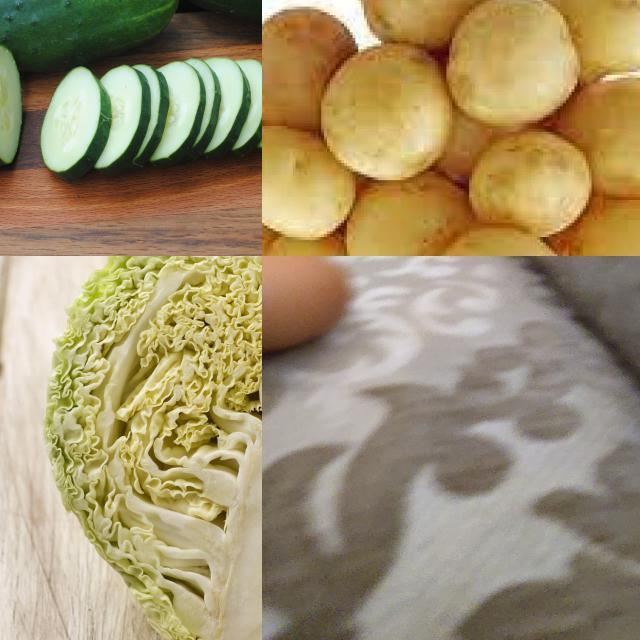cabbage: (30, 257, 263, 640)
cucumber: (1, 1, 179, 79)
egg: (263, 257, 350, 355)
potato: (447, 1, 578, 129), (317, 48, 447, 176), (465, 139, 588, 230), (263, 11, 357, 129), (263, 126, 360, 240), (349, 175, 472, 257), (561, 81, 640, 199), (548, 1, 640, 75), (363, 1, 497, 48), (573, 191, 640, 257), (435, 230, 564, 257), (263, 233, 376, 257)
